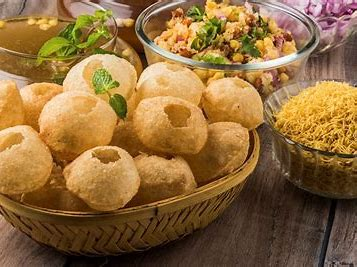inorganic: (10, 82, 198, 182), (179, 11, 275, 44), (302, 94, 350, 140), (15, 17, 86, 44), (314, 7, 340, 14)
organic: (0, 120, 263, 254), (137, 9, 351, 59), (269, 86, 356, 193), (5, 8, 118, 50)
